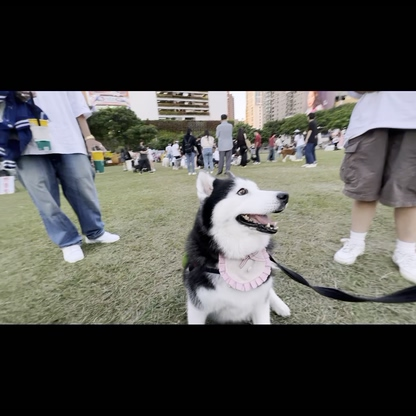husky: (177, 165, 296, 322)
